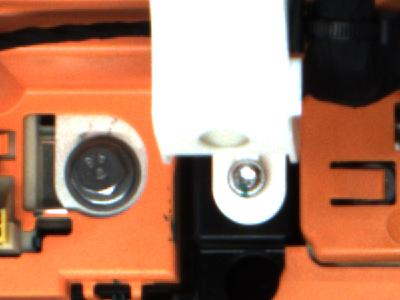nut_b: (59, 129, 147, 215)
